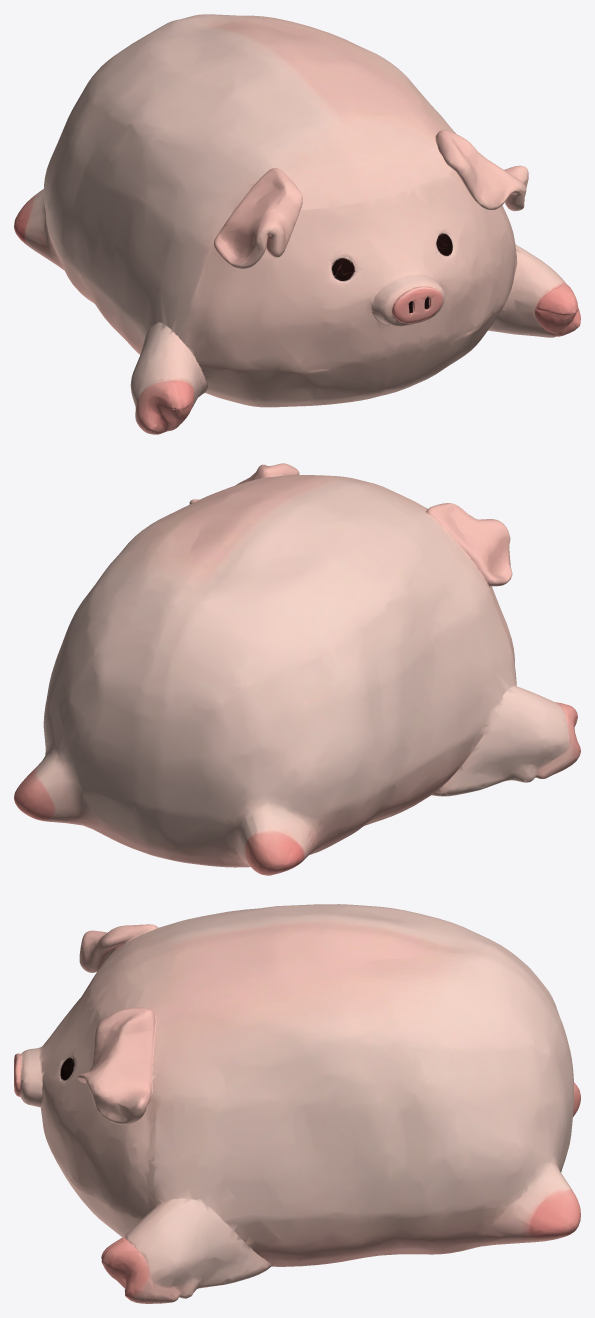
The model's file is pig.glb.
3 renders of one model, top to bottom at view 1: azimuth 30°, elevation 25°; view 2: azimuth 150°, elevation 25°; view 3: azimuth 270°, elevation 25°, orthographic. The views are drawn at different scales.
Visible parts, largest first — view 1: Reference sculpt · folded fabric ears and sewn feet; view 2: Reference sculpt · folded fabric ears and sewn feet; view 3: Reference sculpt · folded fabric ears and sewn feet.
Boxes of the visible parts, box(x1,y1,x2,y2) form: Reference sculpt · folded fabric ears and sewn feet: box(14, 14, 580, 434); Reference sculpt · folded fabric ears and sewn feet: box(14, 463, 580, 875); Reference sculpt · folded fabric ears and sewn feet: box(14, 904, 580, 1303).
Bounding box in the file's own units: 1.74 × 1.04 × 1.9.
Materials: 1 (1 with a texture image).
